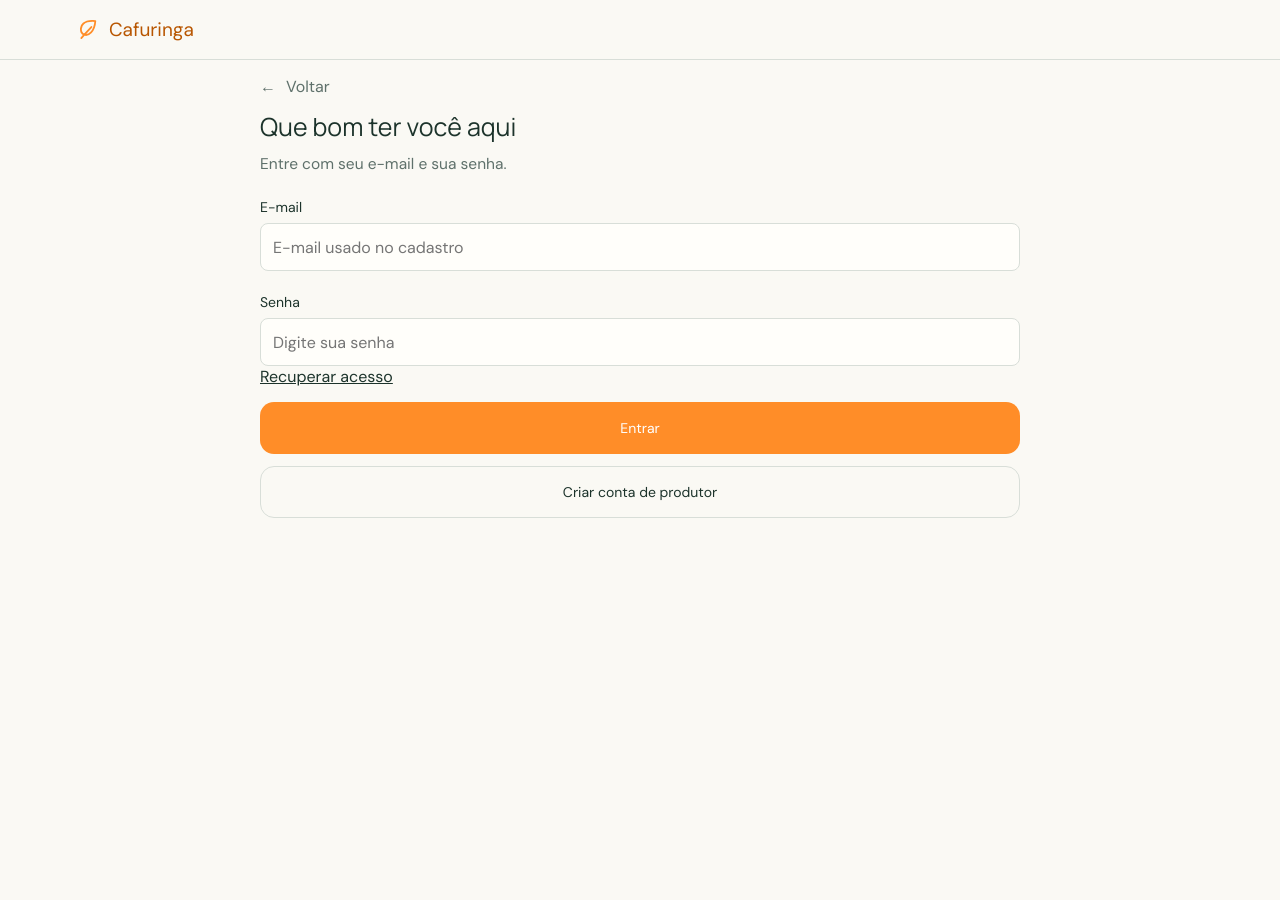
Test case: HU09 — fluxo de autenticação no app › mostra o contato público só para o produtor
Type "gabriela@exemplo.com" into the field labelled "E-mail" at {"x": 640, "y": 247}, box top-left (260, 223), bottom-right (1020, 271)
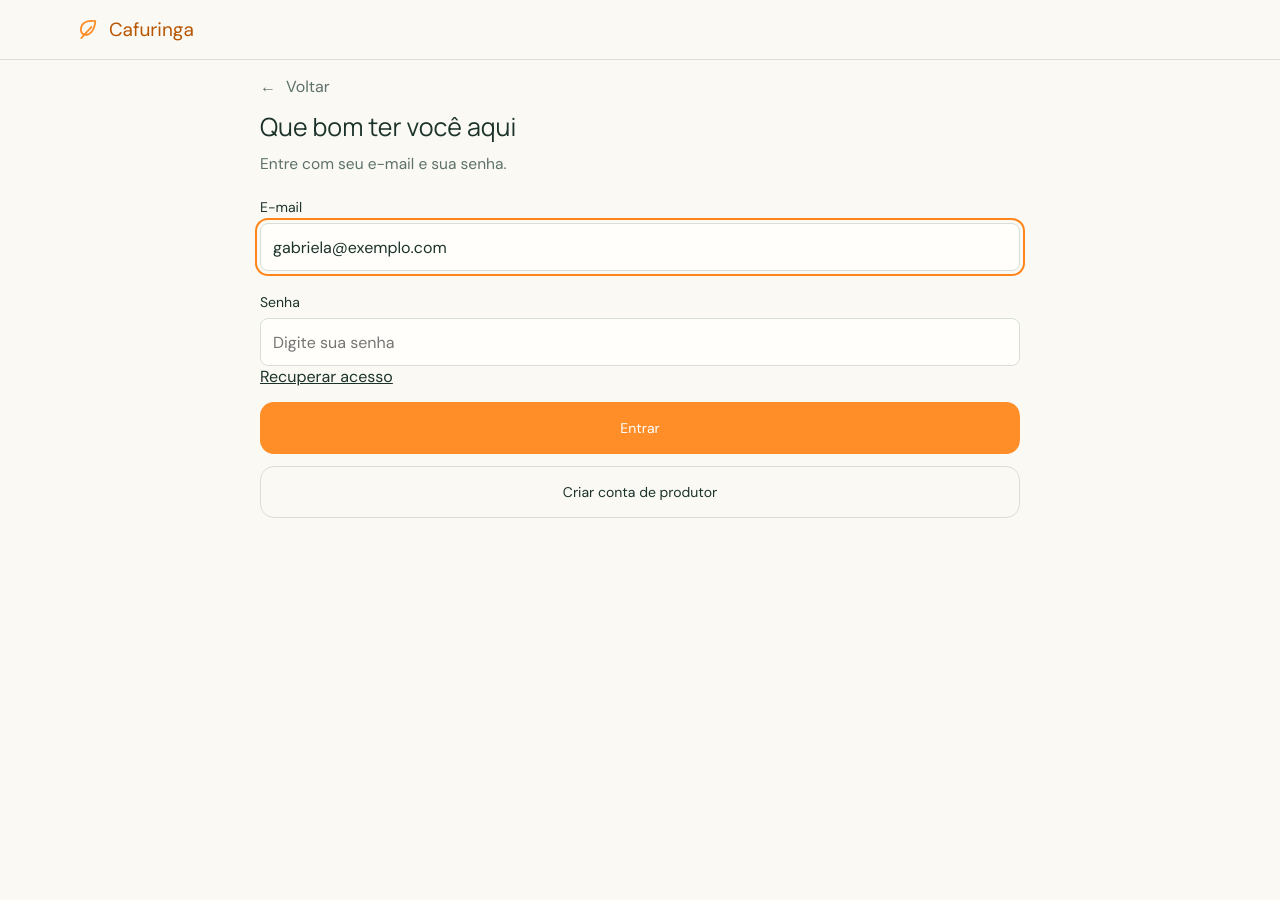
Type "senha123" into the password field labelled "Senha" at {"x": 640, "y": 342}, box top-left (260, 318), bottom-right (1020, 366)
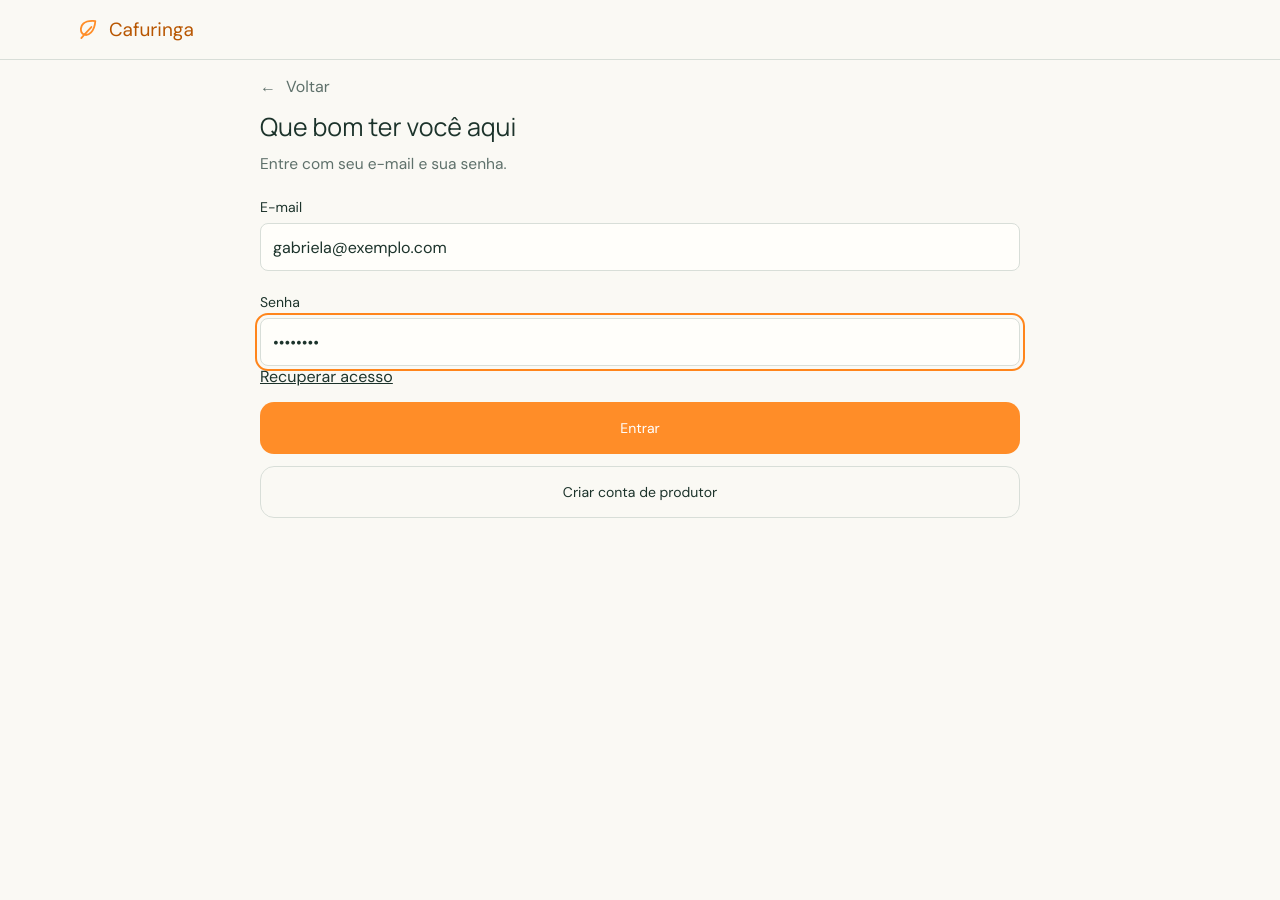
Click the button "Entrar" at {"x": 640, "y": 428}, box top-left (260, 402), bottom-right (1020, 454)
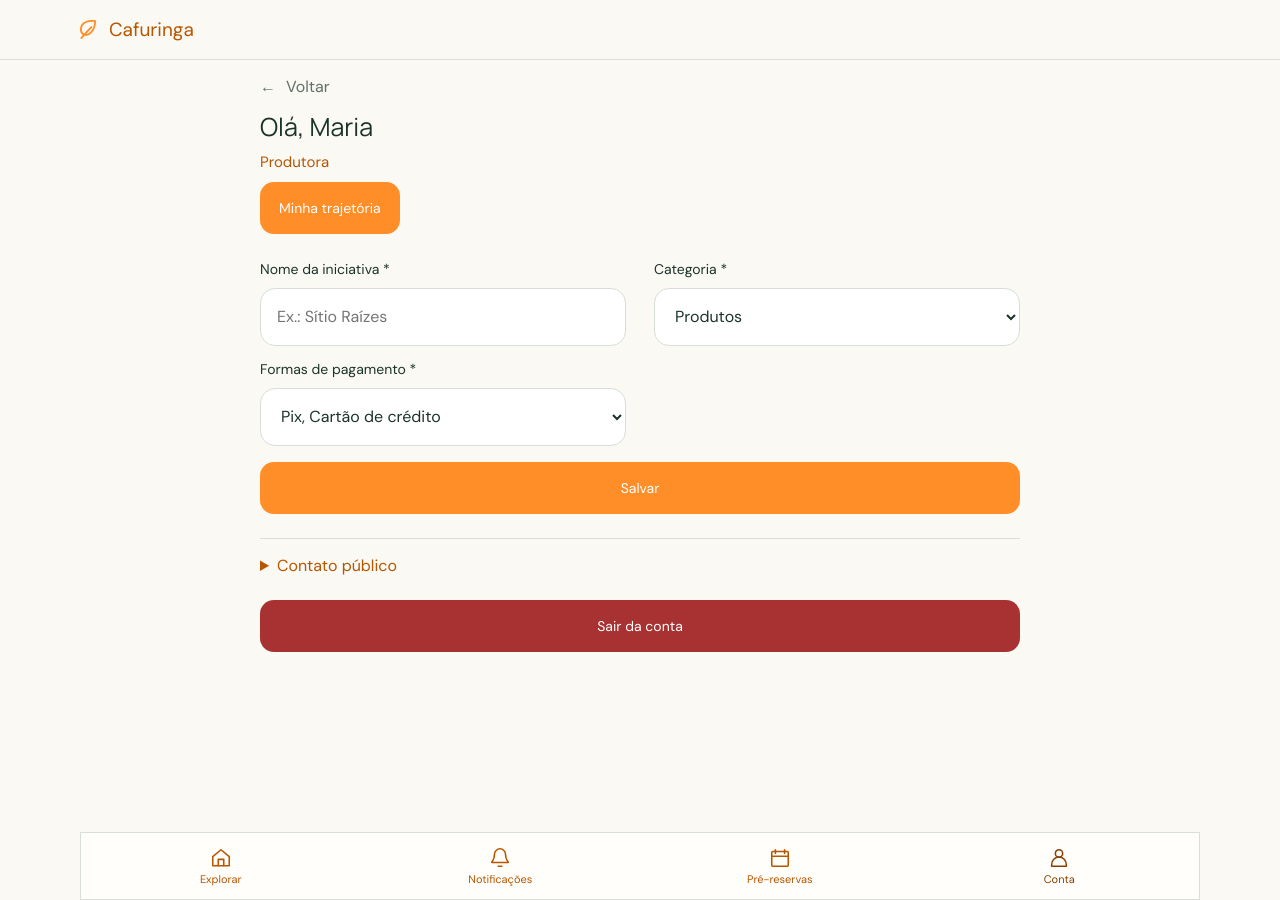
Click the heading "Contato público" at {"x": 337, "y": 565}, box top-left (277, 555), bottom-right (397, 576)
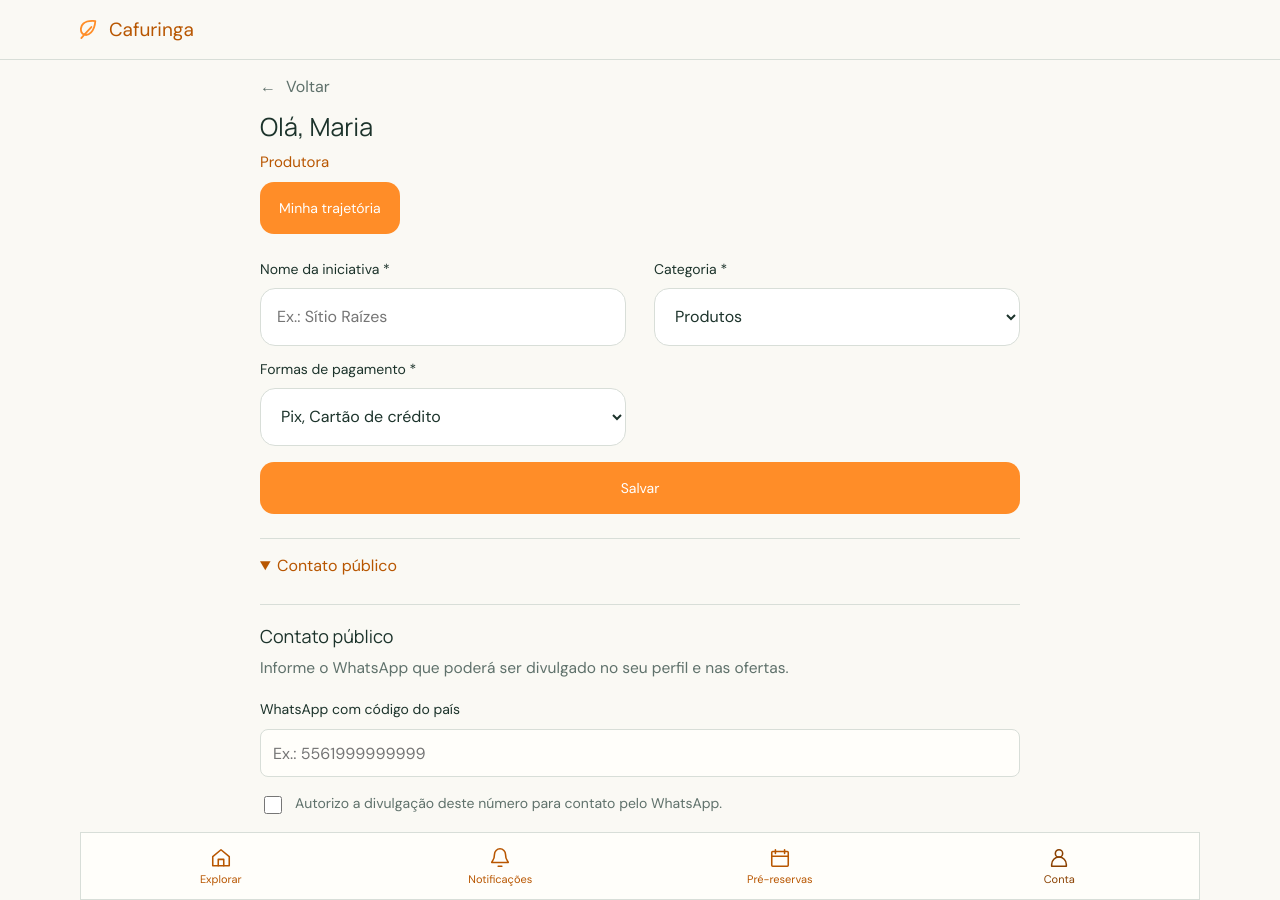
Result: the 2nd heading "Contato público" is shown at top-left (260, 624), bottom-right (393, 648)
